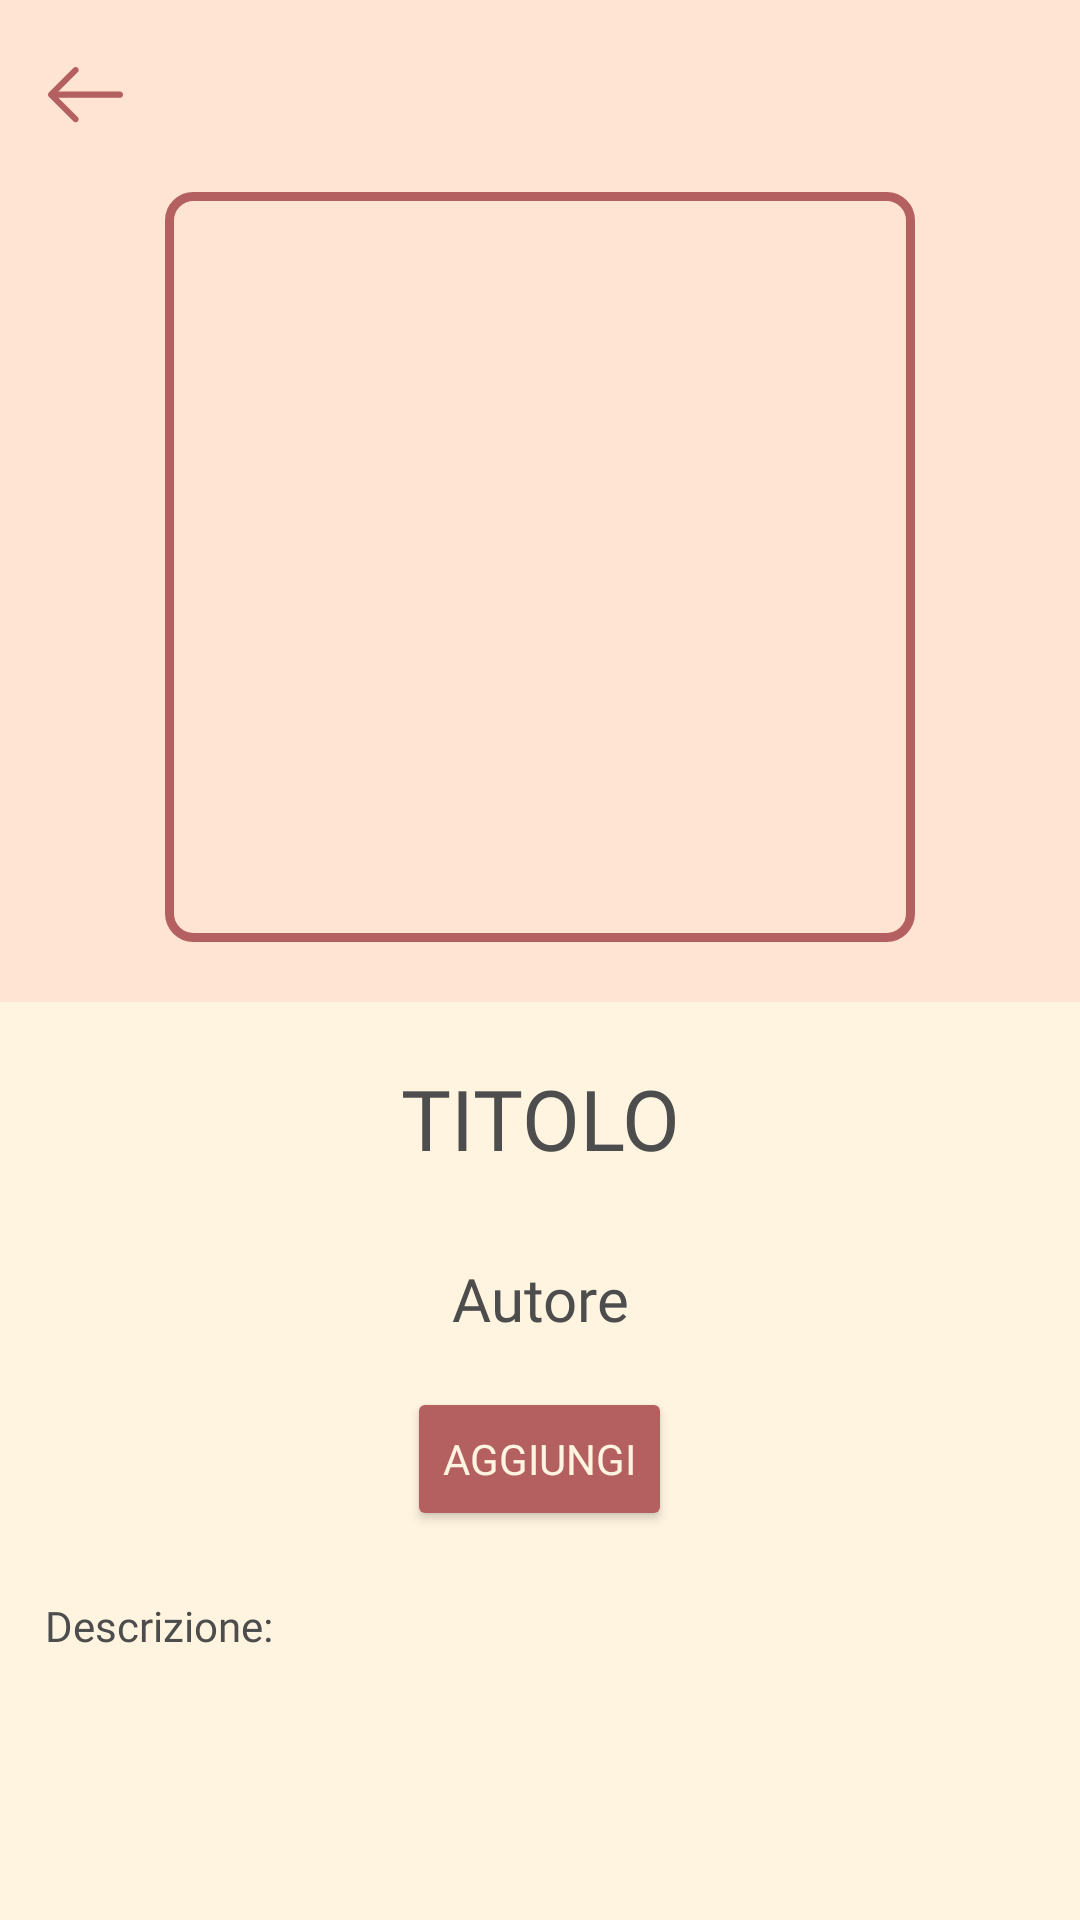

Locate icon controls on the screen. Image size 1080 x 1920, boxes as BBox(x1, y1, x2, y2).
back: BBox(48, 67, 123, 123)
